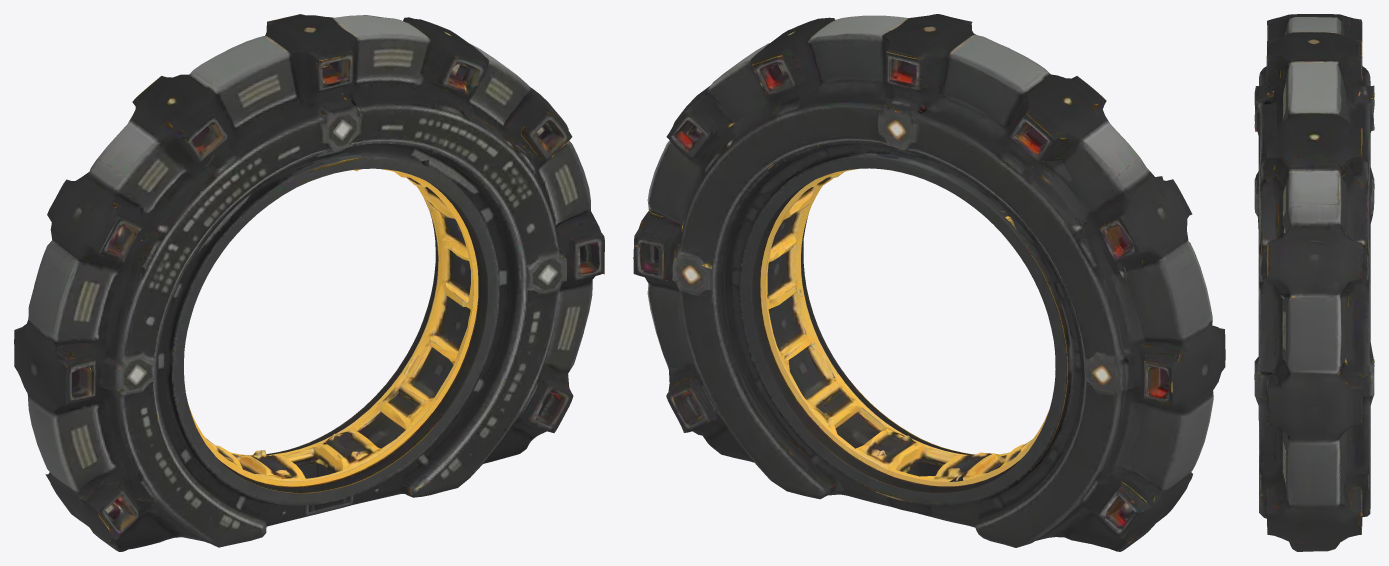
Rendered from stargate.glb.
The picture shows the model from 3 angles, left to right: view 1: azimuth 30°, elevation 25°; view 2: azimuth 150°, elevation 25°; view 3: azimuth 270°, elevation 25°; orthographic projection. The views are drawn at different scales.
Parts seen in each view (by area): view 1: Mesh0; view 2: Mesh0; view 3: Mesh0.
Boxes of the visible parts, bbox=[...] form: Mesh0: bbox=[14, 14, 604, 551]; Mesh0: bbox=[633, 14, 1225, 551]; Mesh0: bbox=[1254, 14, 1374, 551].
Size of the model in its own units: 1.91 by 1.56 by 0.3989.
Materials: 1 (1 with a texture image).
